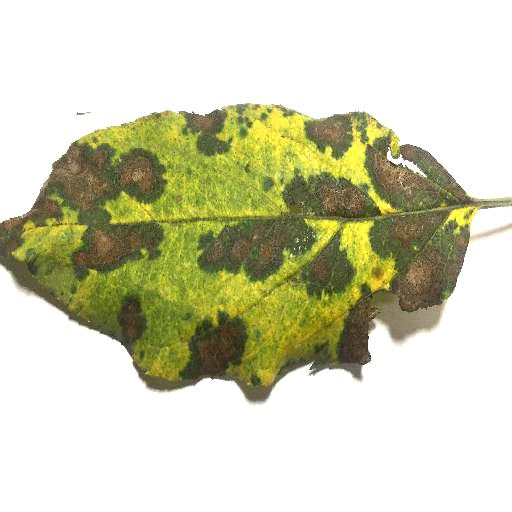Brown_Spot: (368, 219, 466, 303), (363, 147, 470, 214), (194, 220, 302, 274), (52, 150, 155, 202), (180, 309, 257, 376), (71, 222, 158, 272), (302, 245, 363, 295), (301, 179, 370, 214), (341, 299, 377, 362), (310, 113, 348, 151), (187, 110, 223, 136), (124, 297, 141, 344), (1, 222, 23, 255)
